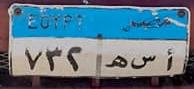2: (66, 44, 83, 75)
3: (45, 45, 63, 73)
7: (23, 46, 43, 72)
alif: (162, 47, 176, 73)
haa: (102, 52, 128, 73)
seen: (130, 52, 157, 72)
